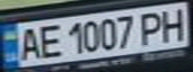0: (81, 17, 103, 53), (100, 15, 121, 51)
1: (63, 19, 84, 54)
7: (115, 12, 139, 48)
A: (12, 25, 45, 62)
E: (33, 21, 63, 59)
H: (157, 4, 190, 43)
P: (136, 8, 169, 46)
